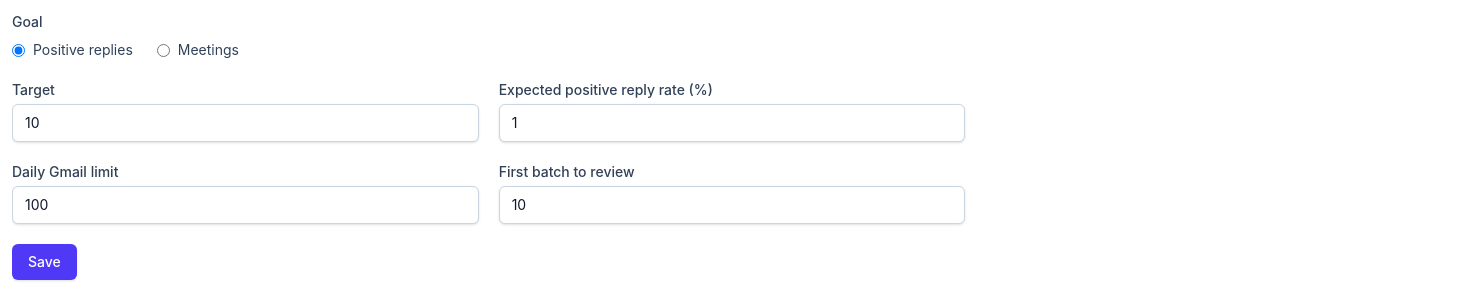
it: shows meetings rate only for meetings goal
Expected: the number field labelled "Target" is shown, [12,104,479,142]
Expected: the field labelled "Meetings per positive reply (%)" is not shown
Click the radio button labelled "Meetings".
click(163, 50)  # box [157,44,170,56]
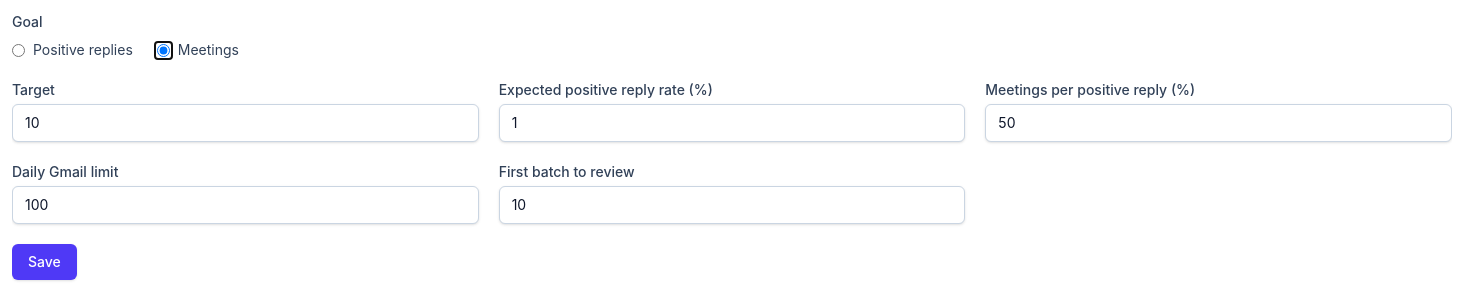
Result: the number field labelled "Meetings per positive reply (%)" is shown at [985,104,1452,142]
